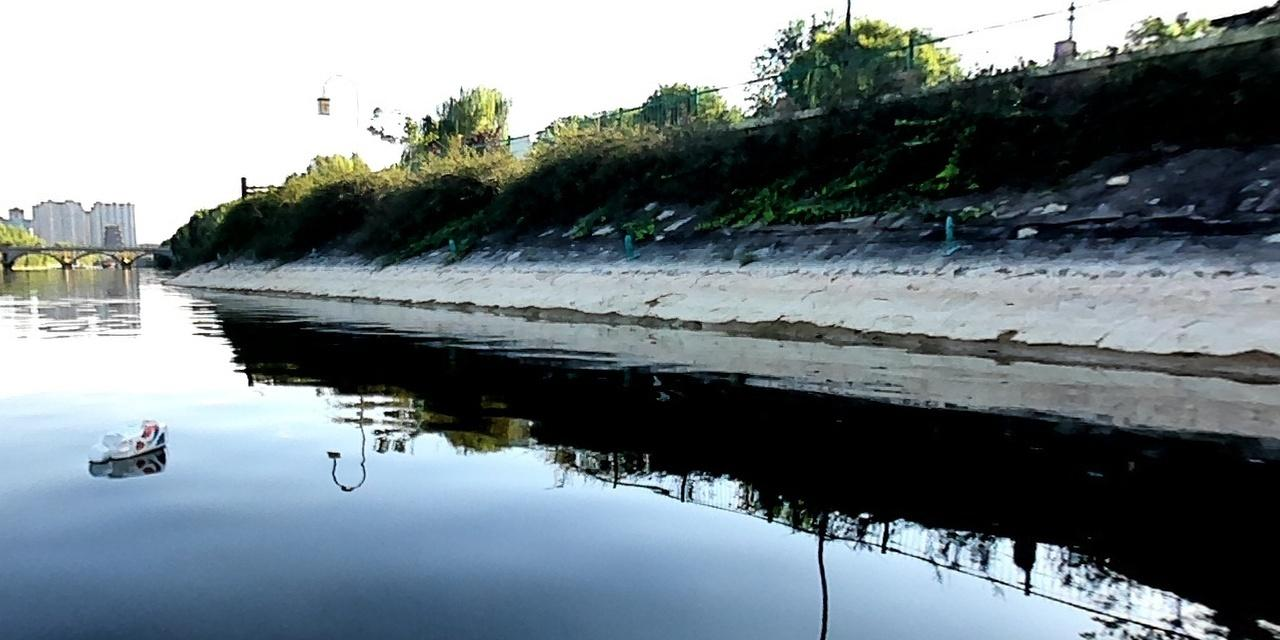bottle: (85, 414, 172, 468)
